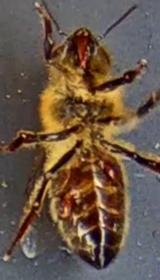varroa_mite: (44, 187, 85, 226), (90, 148, 127, 186)
